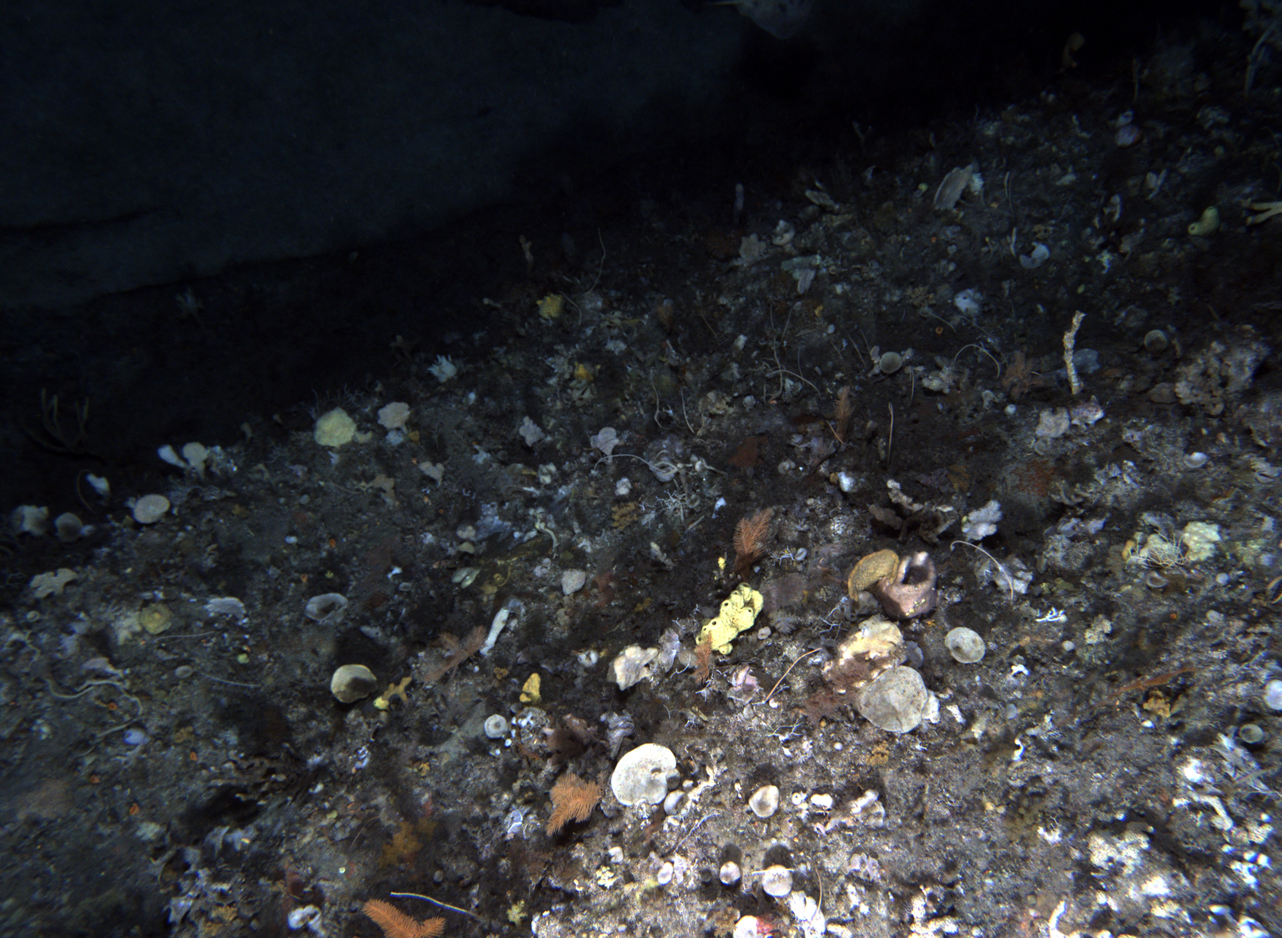Brachionichthyidae: (1068, 394, 1105, 430)
